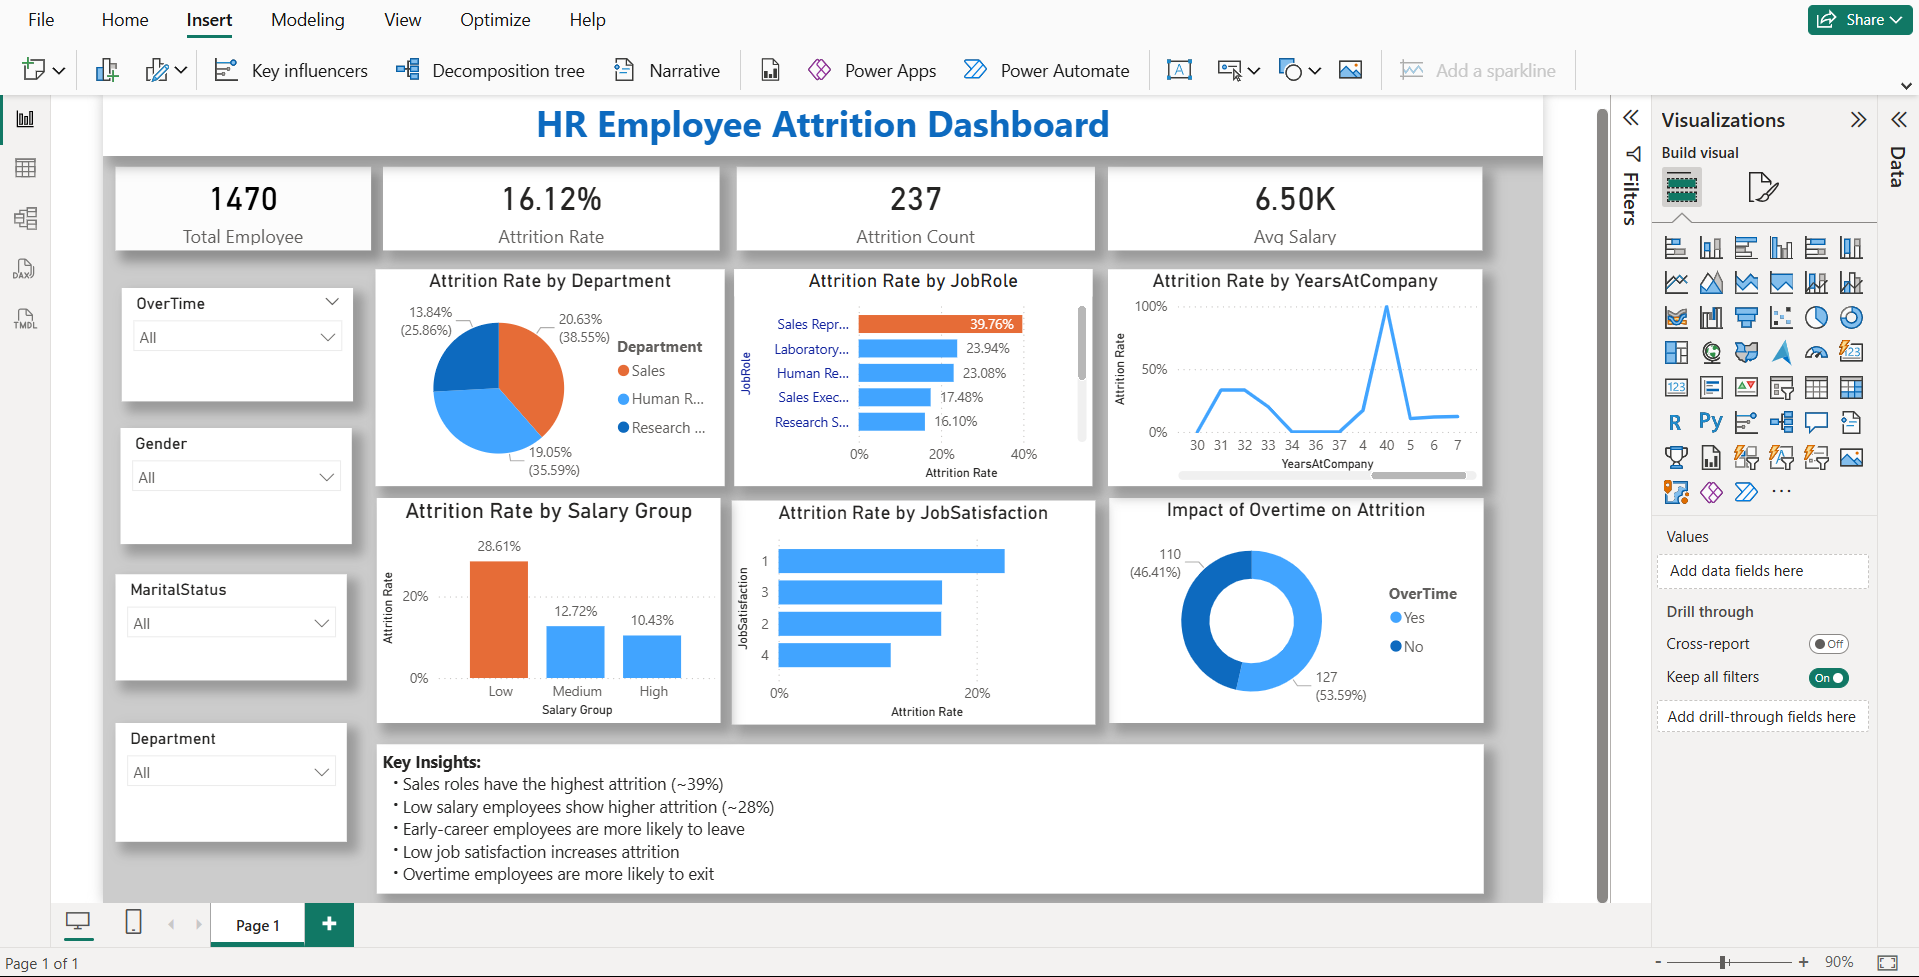

This screenshot's page, from the dashboard's own definition file:
{"tool":"powerbi","page":{"name":"Page 1","canvas":[1280,720],"ordinal":0},"visuals":[{"type":"card","fields":{"Values":["IBM HR Employee Attrition Data.Total Employee"]},"box":[11.1,65.7,227.1,74.6],"z":0},{"type":"card","fields":{"Values":["IBM HR Employee Attrition Data.Attrition Rate"]},"box":[249.4,65.7,299.4,74.6],"z":1000},{"type":"card","fields":{"Values":["IBM HR Employee Attrition Data.Attrition Count"]},"box":[563.3,65.7,318.4,74.6],"z":2000},{"type":"card","fields":{"Values":["IBM HR Employee Attrition Data.Avg Salary"]},"box":[893.9,65.7,332.8,74.6],"z":3000},{"type":"textbox","box":[0,0,1280.2,55.7],"z":4000},{"type":"slicer","fields":{"Values":["IBM HR Employee Attrition Data.Department"]},"box":[11.6,560.5,205.8,105.8],"z":5000},{"type":"slicer","fields":{"Values":["IBM HR Employee Attrition Data.MaritalStatus"]},"box":[11.6,427.9,205.8,94.2],"z":6000},{"type":"slicer","fields":{"Values":["IBM HR Employee Attrition Data.Gender"]},"box":[15.1,297.7,205.8,103.5],"z":7000},{"type":"slicer","fields":{"Values":["IBM HR Employee Attrition Data.OverTime"]},"box":[16.3,173.3,205.8,101.2],"z":8000},{"type":"pieChart","fields":{"Category":["IBM HR Employee Attrition Data.Department"],"Y":["IBM HR Employee Attrition Data.Attrition Rate"]},"box":[242.7,157,310.6,192.6],"z":9000},{"type":"clusteredBarChart","fields":{"Category":["IBM HR Employee Attrition Data.JobRole"],"Y":["IBM HR Employee Attrition Data.Attrition Rate"]},"box":[561,157,318.4,192.6],"z":10000},{"type":"donutChart","title":"Impact of Overtime on Attrition","fields":{"Category":["IBM HR Employee Attrition Data.OverTime"],"Y":["IBM HR Employee Attrition Data.Attrition Count"]},"box":[894.2,360.5,332.6,200],"z":11000},{"type":"clusteredBarChart","fields":{"Category":["IBM HR Employee Attrition Data.JobSatisfaction"],"Y":["IBM HR Employee Attrition Data.Attrition Rate"]},"box":[558.8,361.8,322.8,199.3],"z":12000},{"type":"lineChart","fields":{"Category":["IBM HR Employee Attrition Data.YearsAtCompany"],"Y":["IBM HR Employee Attrition Data.Attrition Rate"]},"box":[893.9,157,332.8,192.6],"z":13000},{"type":"textbox","box":[243,579.1,983.7,132.6],"z":14000},{"type":"clusteredColumnChart","title":"Attrition Rate by Salary Group","fields":{"Category":["IBM HR Employee Attrition Data.Salary Group"],"Y":["IBM HR Employee Attrition Data.Attrition Rate"]},"box":[243,360.5,305.8,200],"z":15000}]}

Visuals, with their boxes on the page's 1280x720 design canvas (x1, y1, x2, y2). These are canvas units, not pixel positions in the 1919x977 screenshot, which may show the page scaled, cropped or inside an application window:
card - IBM HR Employee Attrition Data.Total Employee: x1=11 y1=66 x2=238 y2=140
card - IBM HR Employee Attrition Data.Attrition Rate: x1=249 y1=66 x2=549 y2=140
card - IBM HR Employee Attrition Data.Attrition Count: x1=563 y1=66 x2=882 y2=140
card - IBM HR Employee Attrition Data.Avg Salary: x1=894 y1=66 x2=1227 y2=140
textbox: x1=0 y1=0 x2=1280 y2=56
slicer - IBM HR Employee Attrition Data.Department: x1=12 y1=560 x2=217 y2=666
slicer - IBM HR Employee Attrition Data.MaritalStatus: x1=12 y1=428 x2=217 y2=522
slicer - IBM HR Employee Attrition Data.Gender: x1=15 y1=298 x2=221 y2=401
slicer - IBM HR Employee Attrition Data.OverTime: x1=16 y1=173 x2=222 y2=274
pieChart - IBM HR Employee Attrition Data.Department x IBM HR Employee Attrition Data.Attrition Rate: x1=243 y1=157 x2=553 y2=350
clusteredBarChart - IBM HR Employee Attrition Data.JobRole x IBM HR Employee Attrition Data.Attrition Rate: x1=561 y1=157 x2=879 y2=350
"Impact of Overtime on Attrition" donutChart: x1=894 y1=360 x2=1227 y2=560
clusteredBarChart - IBM HR Employee Attrition Data.JobSatisfaction x IBM HR Employee Attrition Data.Attrition Rate: x1=559 y1=362 x2=882 y2=561
lineChart - IBM HR Employee Attrition Data.YearsAtCompany x IBM HR Employee Attrition Data.Attrition Rate: x1=894 y1=157 x2=1227 y2=350
textbox: x1=243 y1=579 x2=1227 y2=712
"Attrition Rate by Salary Group" clusteredColumnChart: x1=243 y1=360 x2=549 y2=560
